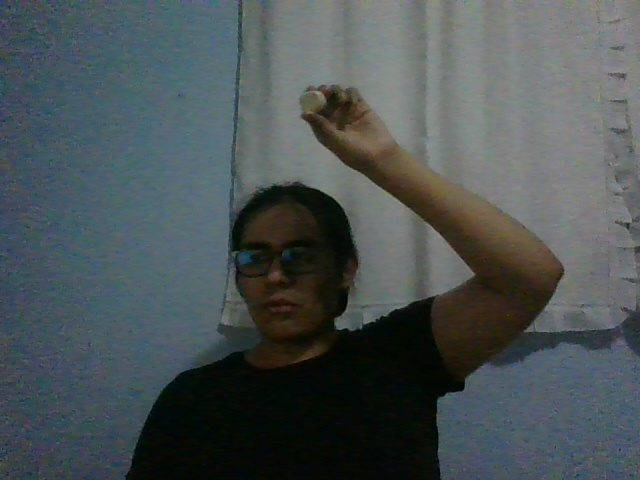goma: (299, 90, 327, 115)
